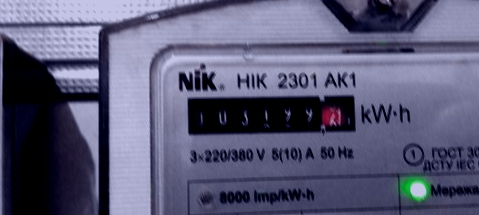0: (214, 108, 225, 127), (191, 109, 200, 127)
1: (258, 105, 267, 123)
3: (236, 108, 246, 128)
6: (324, 113, 334, 127)
9: (279, 104, 289, 124), (301, 106, 311, 124)
screen: (177, 88, 359, 142)
